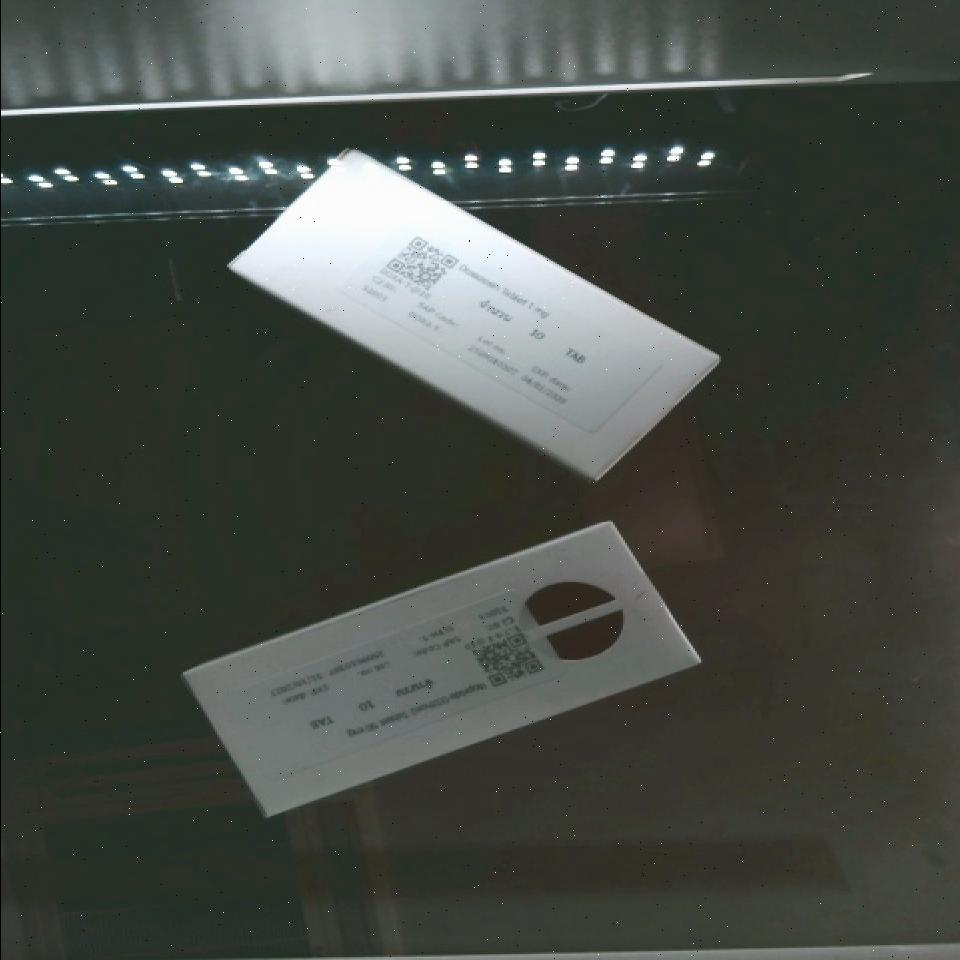medicine_box: (217, 123, 718, 506), (185, 506, 698, 826)
qr_code: (364, 210, 478, 316), (452, 611, 565, 708)
